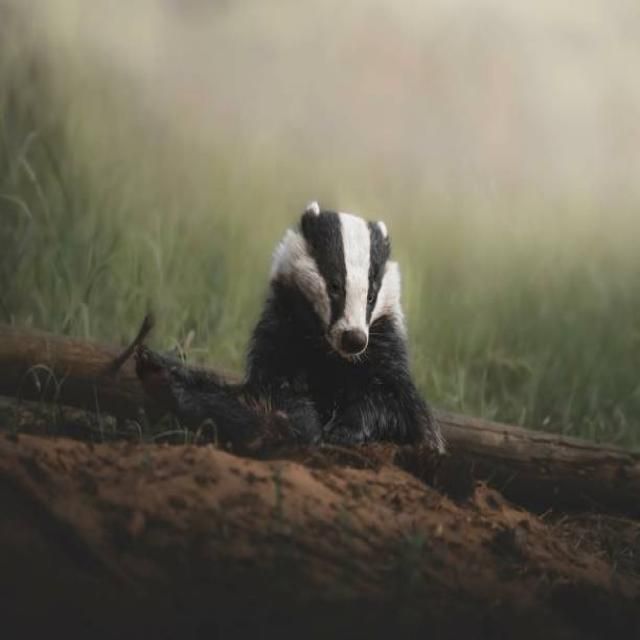Badger: (245, 198, 441, 470)
